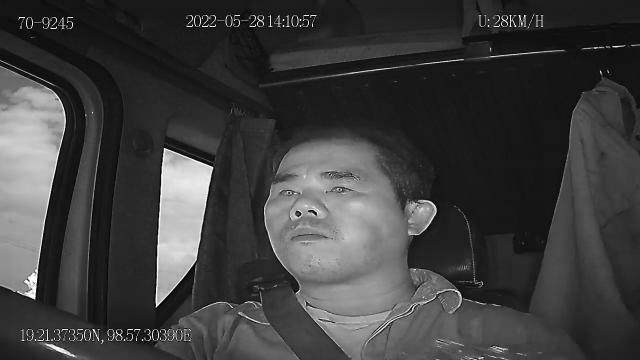SafeDriving: (317, 170, 363, 200), (270, 179, 305, 203)
Seatbelt: (258, 280, 356, 360)
